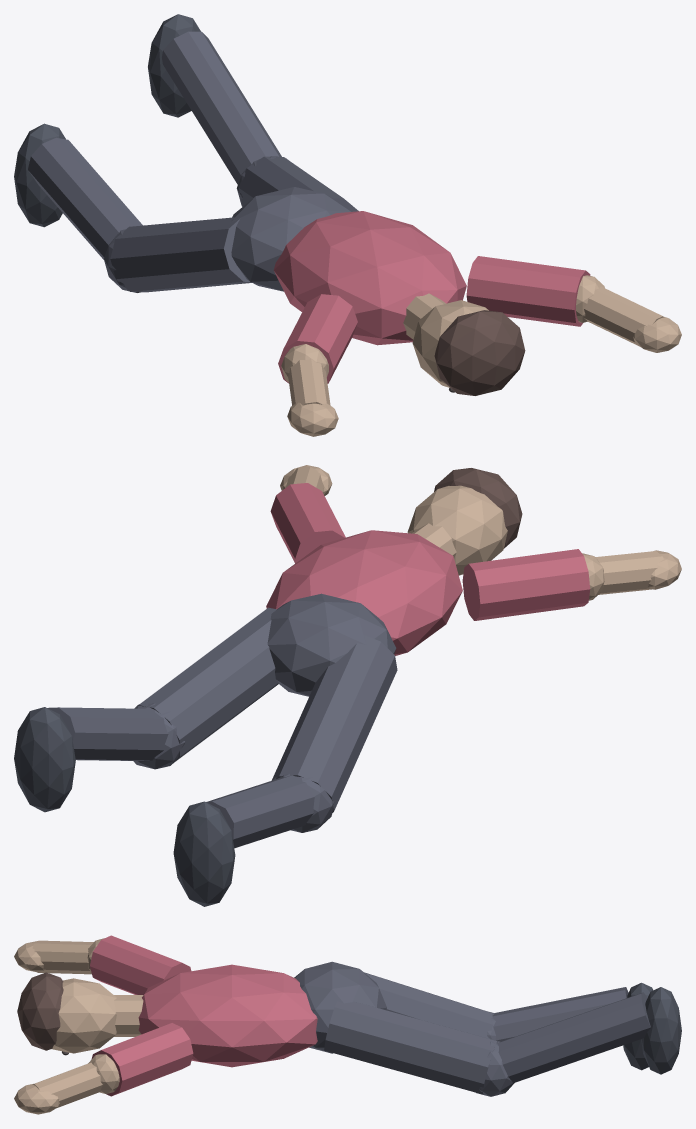
3 renders of one model, top to bottom at view 1: azimuth 30°, elevation 25°; view 2: azimuth 150°, elevation 25°; view 3: azimuth 270°, elevation 25°, orthographic. The views are drawn at different scales.
Parts seen in each view (by area): view 1: world; view 2: world; view 3: world.
Boxes of the visible parts, x1,y1,x2,y2 form: world: [14, 14, 681, 436]; world: [14, 465, 681, 906]; world: [14, 935, 681, 1114].
Size of the model in its own units: 1.17 by 0.4905 by 2.07.
